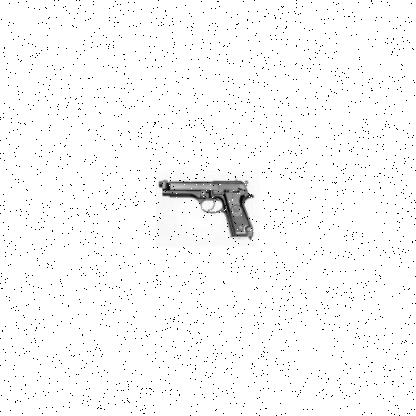gun: (158, 176, 254, 238)
